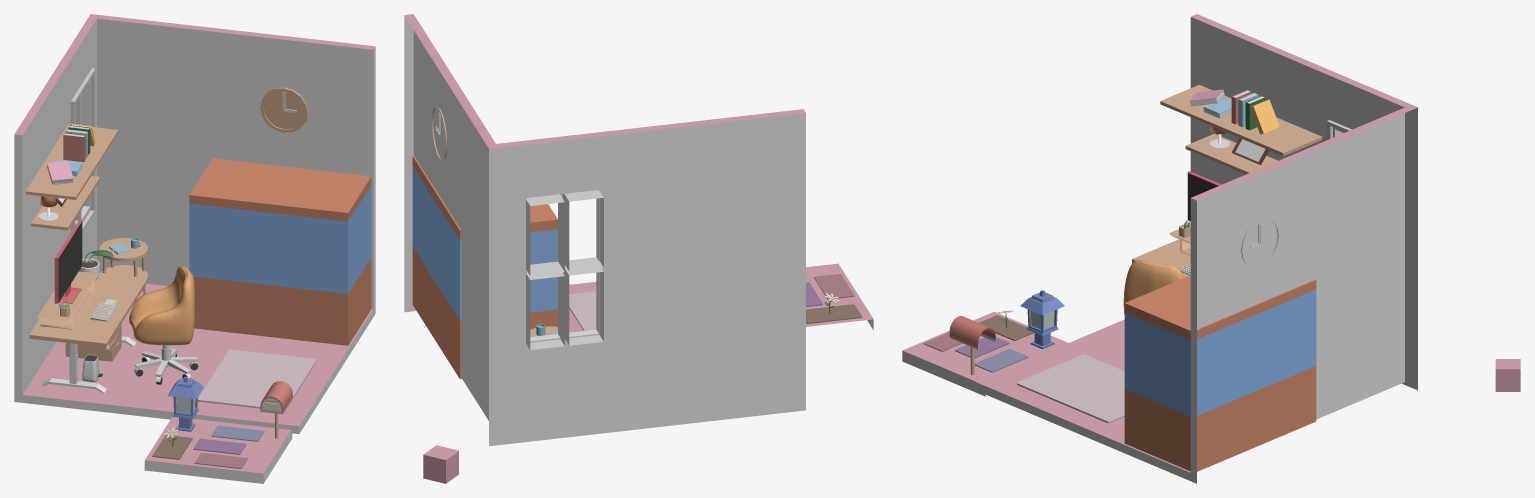
Rendered from room finale.glb.
3 views of the same model, side by side, from view 1: azimuth 30°, elevation 25°; view 2: azimuth 150°, elevation 25°; view 3: azimuth 270°, elevation 25° (orthographic). The views are drawn at different scales.
Visible parts, largest first — view 1: Body, Aquarium, Floor Items, Desk, Shelves, Mini Floor, Chair, Table Stuff, Clock, Computer, Lamp, Mailbox (+4 smaller); view 2: Body, Aquarium, Mini Floor, Cube.143, Floor Items, Dirt, FloorThird; view 3: Body, Aquarium, Shelves, Floor Items, Mini Floor, Chair, Lamp, Mailbox, Desk, Cube.143, Dirt, FloorFirst.
Part boxes in pixels (x1,y1,x2,y2): Body: [14, 14, 375, 433]; Aquarium: [189, 158, 371, 345]; Floor Items: [65, 323, 316, 408]; Desk: [29, 238, 148, 392]; Shelves: [25, 123, 118, 230]; Mini Floor: [144, 417, 292, 483]; Chair: [129, 265, 194, 345]; Table Stuff: [37, 238, 140, 329]; Clock: [260, 87, 307, 132]; Computer: [54, 219, 82, 303]; Lamp: [167, 376, 203, 431]; Mailbox: [260, 381, 292, 438]; Body: [404, 14, 805, 446]; Aquarium: [412, 156, 557, 378]; Mini Floor: [806, 263, 873, 329]; Cube.143: [423, 445, 458, 483]; Floor Items: [569, 291, 596, 330]; Dirt: [806, 304, 862, 323]; FloorThird: [814, 274, 854, 299]; Body: [976, 14, 1417, 483]; Aquarium: [1124, 275, 1316, 471]; Shelves: [1160, 85, 1322, 174]; Floor Items: [1017, 354, 1124, 423]; Mini Floor: [902, 311, 1067, 396]; Chair: [1123, 260, 1184, 314]; Lamp: [1020, 290, 1064, 349]; Mailbox: [949, 316, 995, 375]; Desk: [1132, 239, 1190, 277]; Cube.143: [1495, 359, 1520, 391]; Dirt: [979, 315, 1034, 340]; FloorFirst: [974, 349, 1028, 372].
Size of the model in its own units: 35.43 by 25.71 by 49.58.
